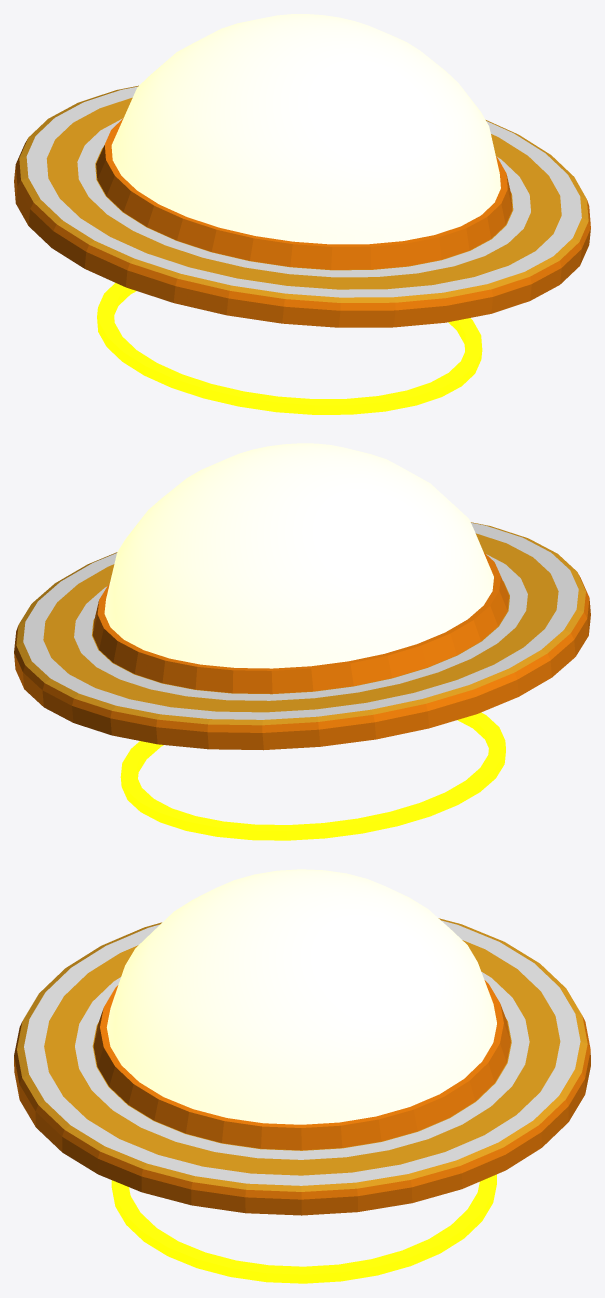
File: Yellow ship.fbx
3 views of the same model, one above another, from view 1: azimuth 30°, elevation 25°; view 2: azimuth 150°, elevation 25°; view 3: azimuth 270°, elevation 25° (orthographic).
Parts seen in each view (by area): view 1: sphere, Circle, Sphere.001, yellow emission; view 2: sphere, Circle, Sphere.001, yellow emission; view 3: sphere, Circle, Sphere.001, yellow emission.
Part boxes in pixels (box(x1,y1,x2,y2)): sphere: box(111, 14, 500, 244); Circle: box(14, 85, 590, 327); Sphere.001: box(96, 118, 512, 269); yellow emission: box(97, 283, 482, 414); sphere: box(104, 443, 493, 668); Circle: box(14, 522, 590, 750); Sphere.001: box(92, 552, 509, 693); yellow emission: box(120, 712, 505, 840); sphere: box(106, 869, 496, 1124); Circle: box(14, 918, 590, 1215); Sphere.001: box(93, 980, 510, 1150); yellow emission: box(111, 1174, 496, 1283).
Bounding box in the file's own units: 79.87 × 48.58 × 80.03.
